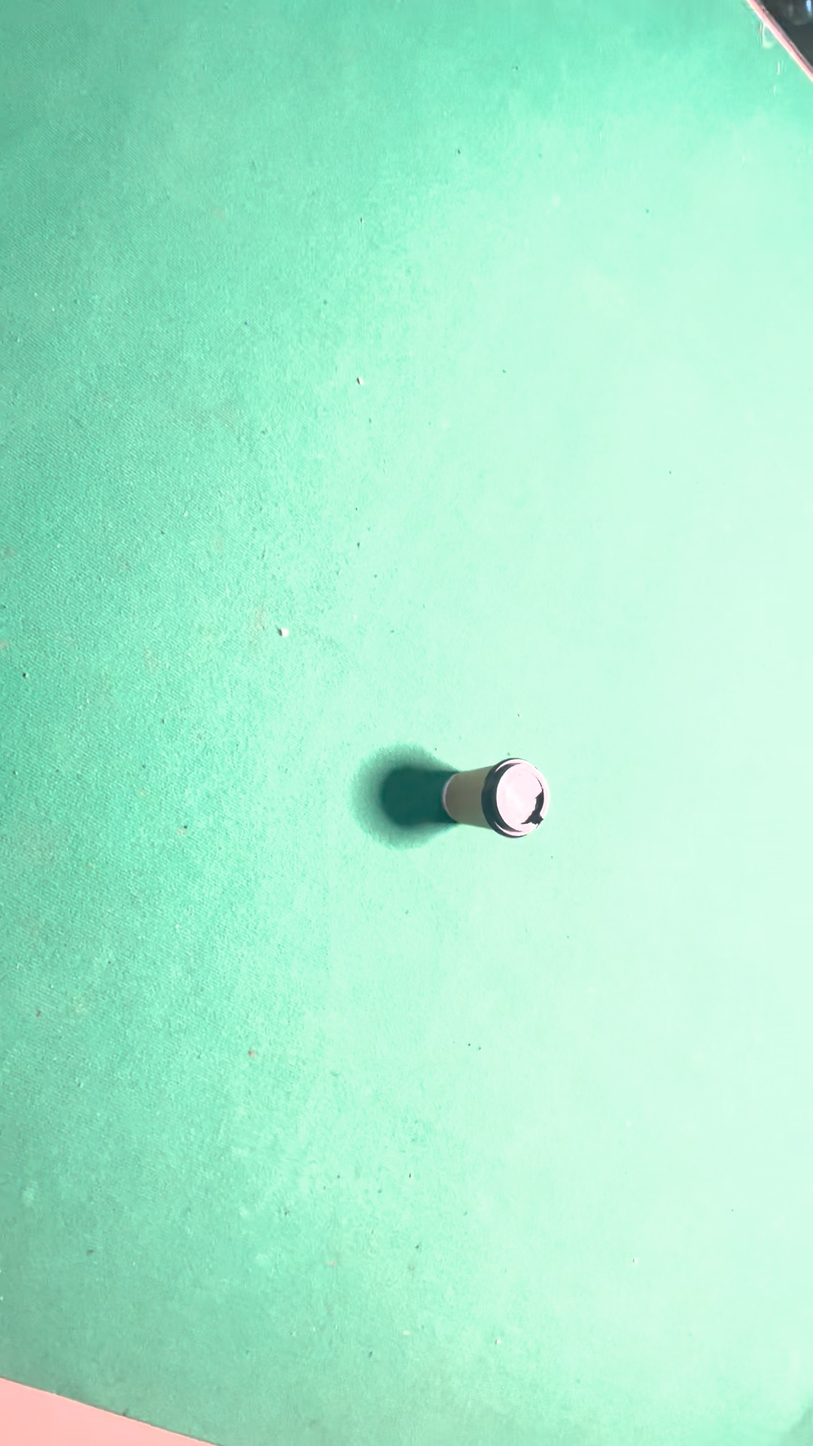cup: (401, 733, 475, 1088)
